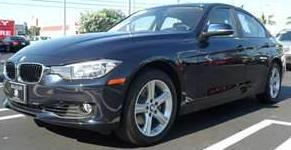front_view: (1, 53, 133, 124)
headlight: (45, 54, 129, 86)
